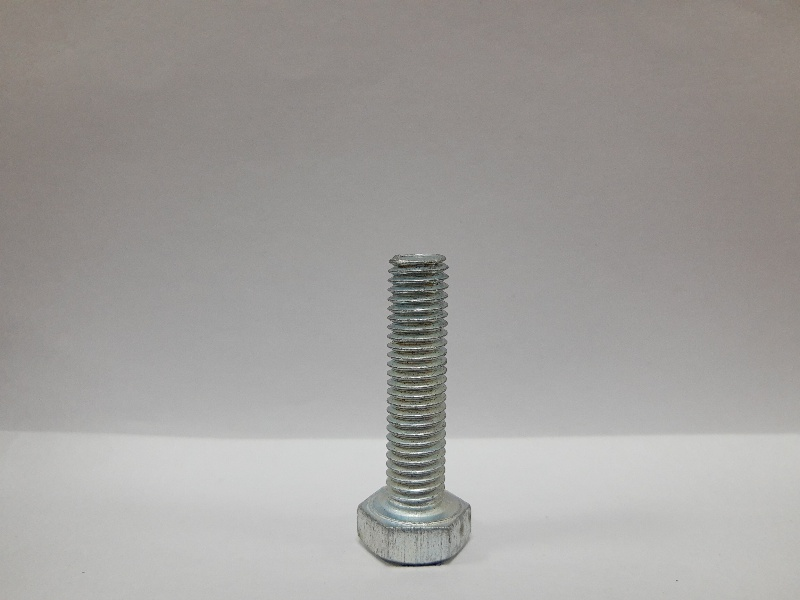pf: (351, 248, 477, 570)
